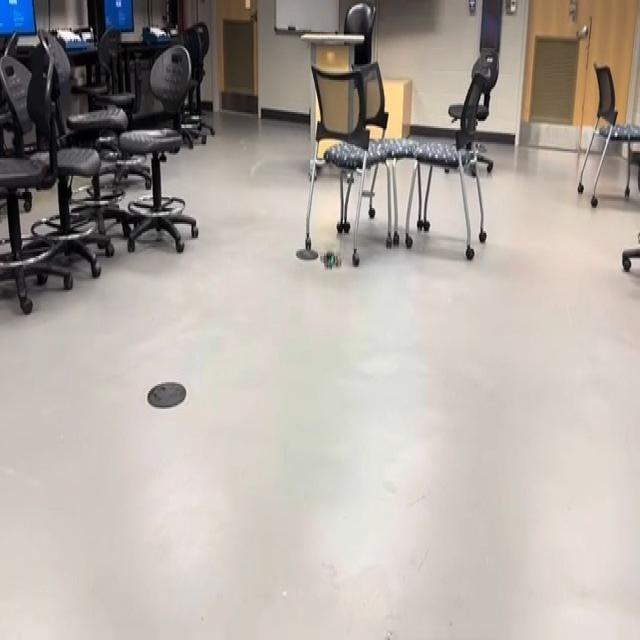drone: (308, 242, 348, 279)
